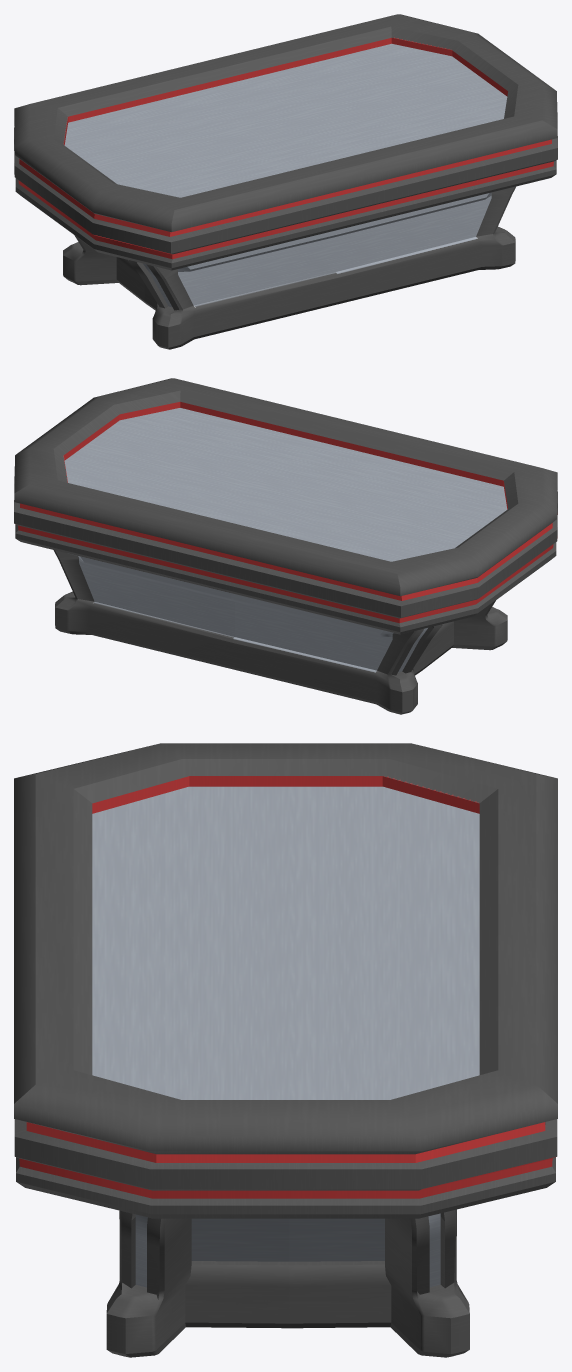
The model's file is Pooltable_geo.fbx.
3 renders of one model, top to bottom at view 1: azimuth 30°, elevation 25°; view 2: azimuth 150°, elevation 25°; view 3: azimuth 270°, elevation 25°, orthographic. The views are drawn at different scales.
Parts seen in each view (by area): view 1: TableTop; view 2: TableTop; view 3: TableTop.
Part boxes in pixels (x1,y1,x2,y2): TableTop: (14,14,557,349); TableTop: (14,378,557,714); TableTop: (14,743,557,1357).
Size of the model in its own units: 296 by 97.63 by 174.
Materials: 1 (1 with a texture image).
